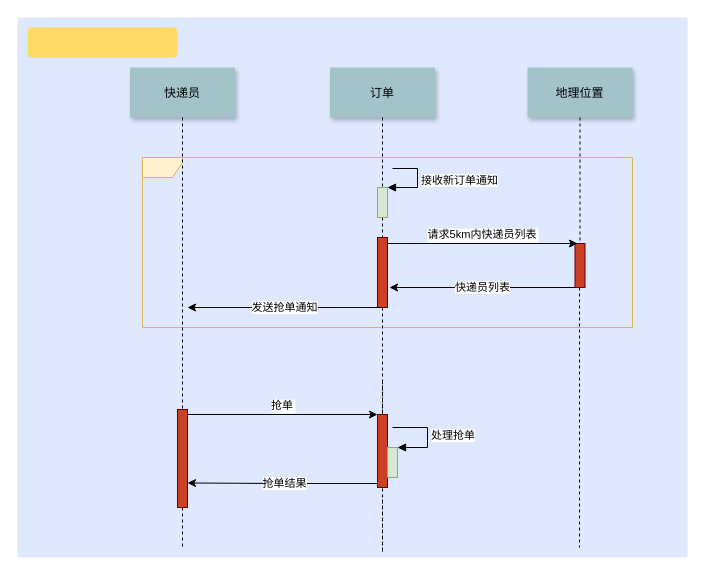
Image size: 704x576. Some labels were removed from this diagram. Here are the shapes that lost their labels. From the top down, the centre of each, then its label:
At pixel 102 42: "抢单时序图".
At pixel 387 242: "Loop".
